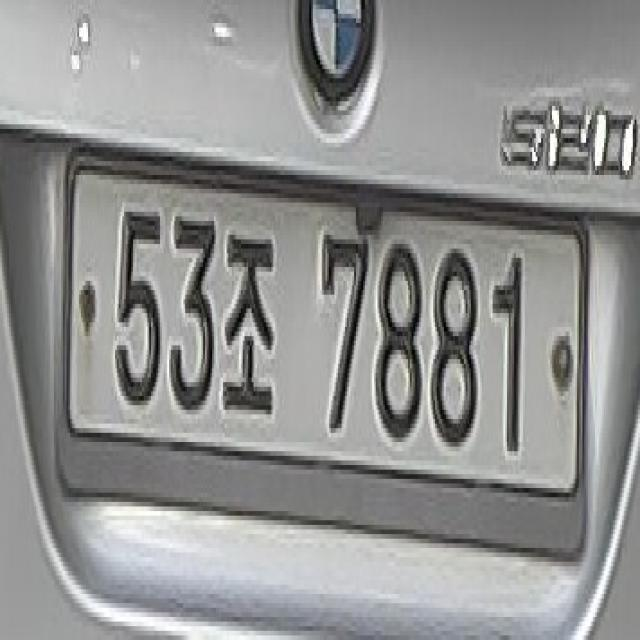1: (489, 240, 527, 474)
3: (171, 166, 219, 437)
5: (102, 184, 162, 428)
7: (309, 212, 367, 433)
8: (426, 221, 484, 474), (374, 226, 430, 451)
jo: (208, 216, 288, 424)
license_plate: (52, 147, 599, 594)
